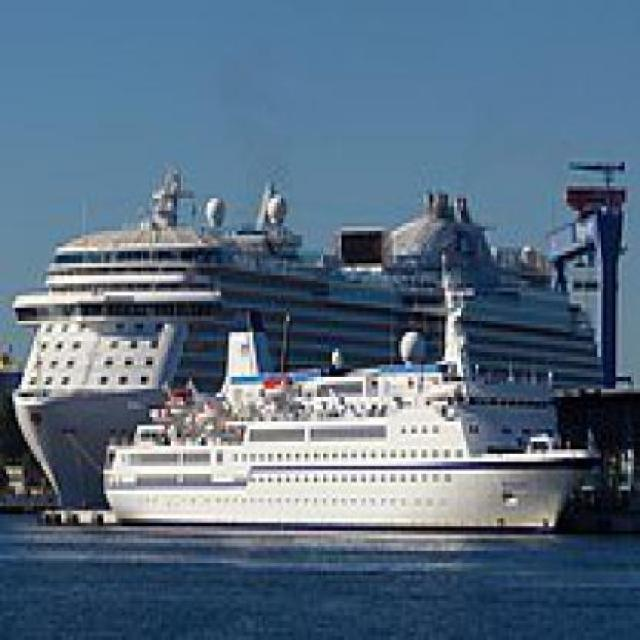cruise: (96, 325, 611, 552)
